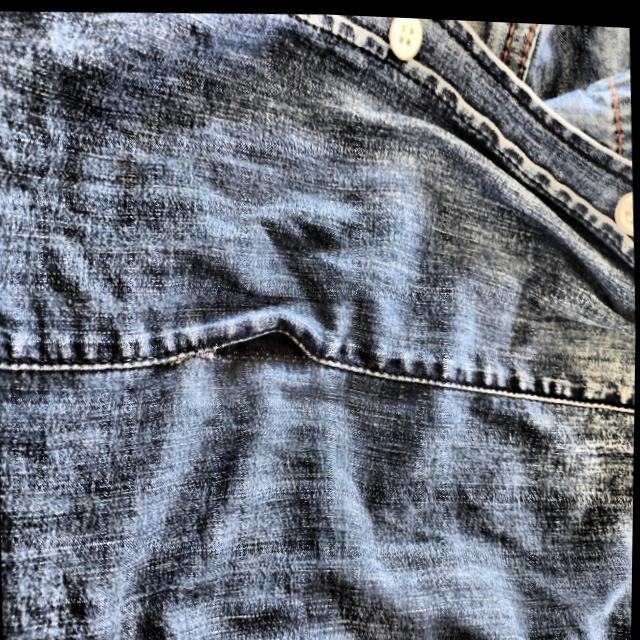seam: (197, 283, 349, 410)
